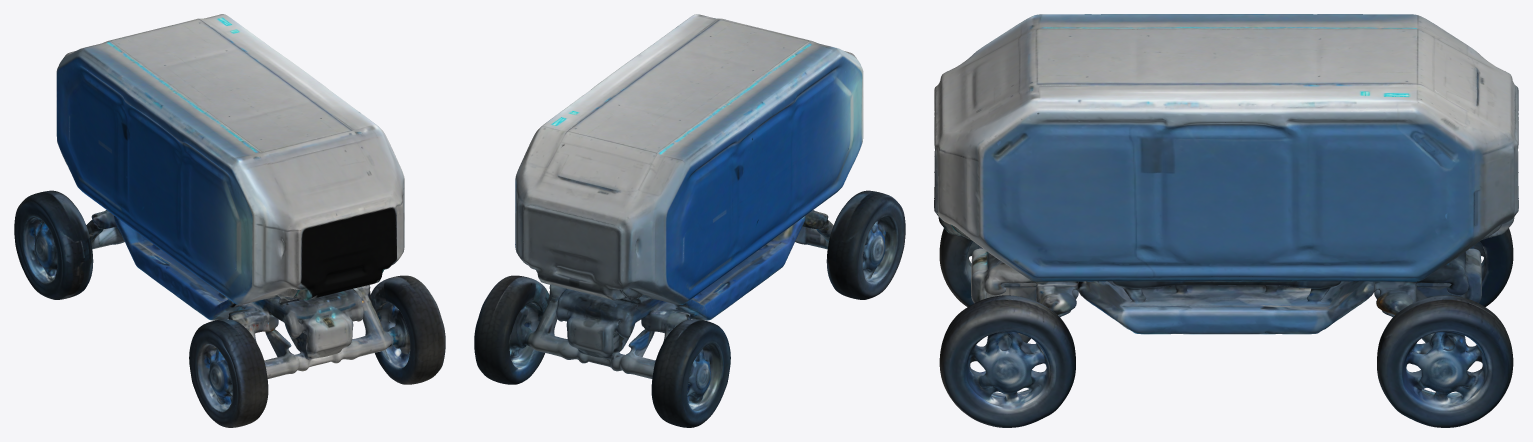
File: Futuristic_cart_paylo_0222150326_texture.fbx
The picture shows the model from 3 angles, left to right: view 1: azimuth 30°, elevation 25°; view 2: azimuth 150°, elevation 25°; view 3: azimuth 270°, elevation 25°; orthographic projection. The views are drawn at different scales.
Parts seen in each view (by area): view 1: Mesh1_Mesh1.023; view 2: Mesh1_Mesh1.023; view 3: Mesh1_Mesh1.023.
Part boxes in pixels (<box>): Mesh1_Mesh1.023: <box>14,14,445,427</box>; Mesh1_Mesh1.023: <box>474,14,905,427</box>; Mesh1_Mesh1.023: <box>934,14,1518,427</box>.
Bounding box in the file's own units: 103 × 119 × 201.
Materials: 1 (1 with a texture image).
